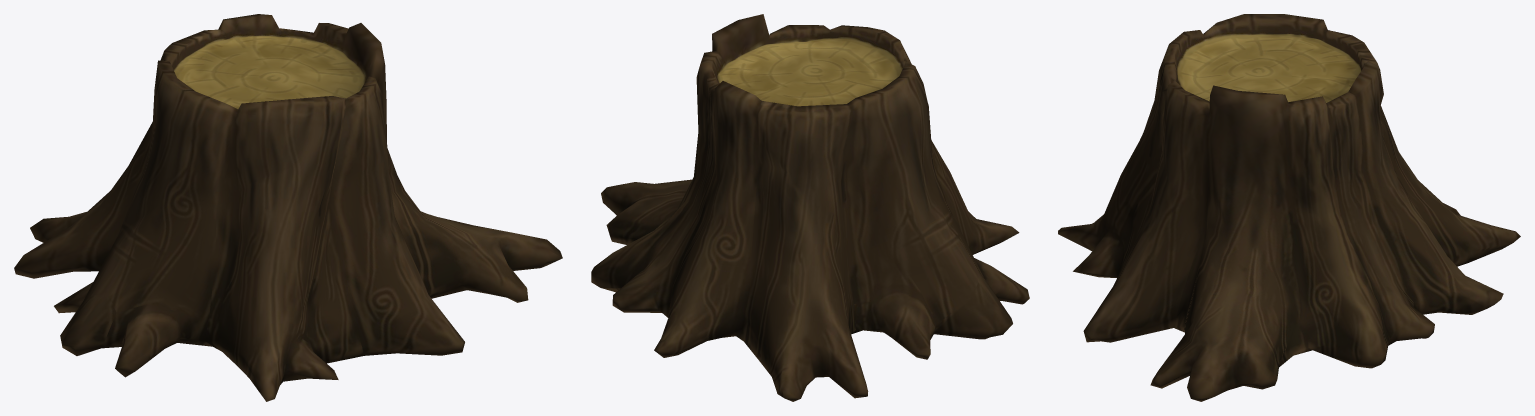
File: Trunk.fbx
3 views of the same model, side by side, from view 1: azimuth 30°, elevation 25°; view 2: azimuth 150°, elevation 25°; view 3: azimuth 270°, elevation 25° (orthographic). The views are drawn at different scales.
Visible parts, largest first — view 1: ProjektM_Large_high_meshId0_name.001; view 2: ProjektM_Large_high_meshId0_name.001; view 3: ProjektM_Large_high_meshId0_name.001.
Part boxes in pixels (x1,y1,x2,y2): ProjektM_Large_high_meshId0_name.001: (14, 14, 562, 401); ProjektM_Large_high_meshId0_name.001: (591, 14, 1029, 401); ProjektM_Large_high_meshId0_name.001: (1058, 14, 1520, 401).
Bounding box in the file's own units: 2 × 1.07 × 1.78.
Materials: 1 (1 with a texture image).
